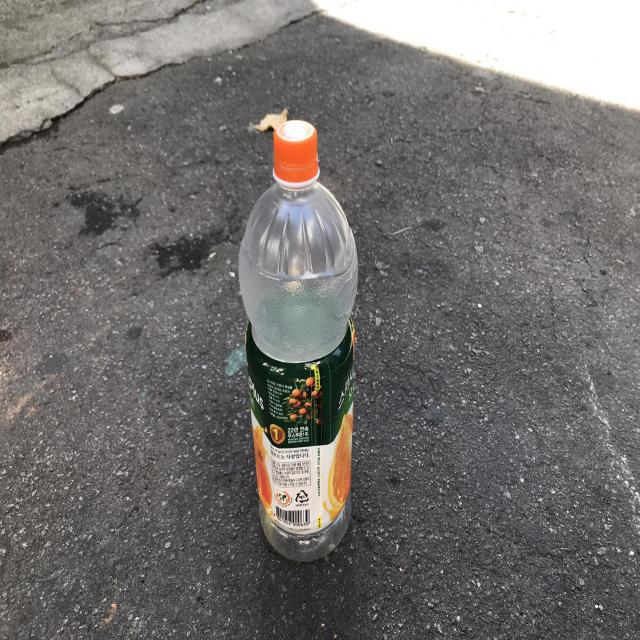plastic: (238, 119, 358, 562)
